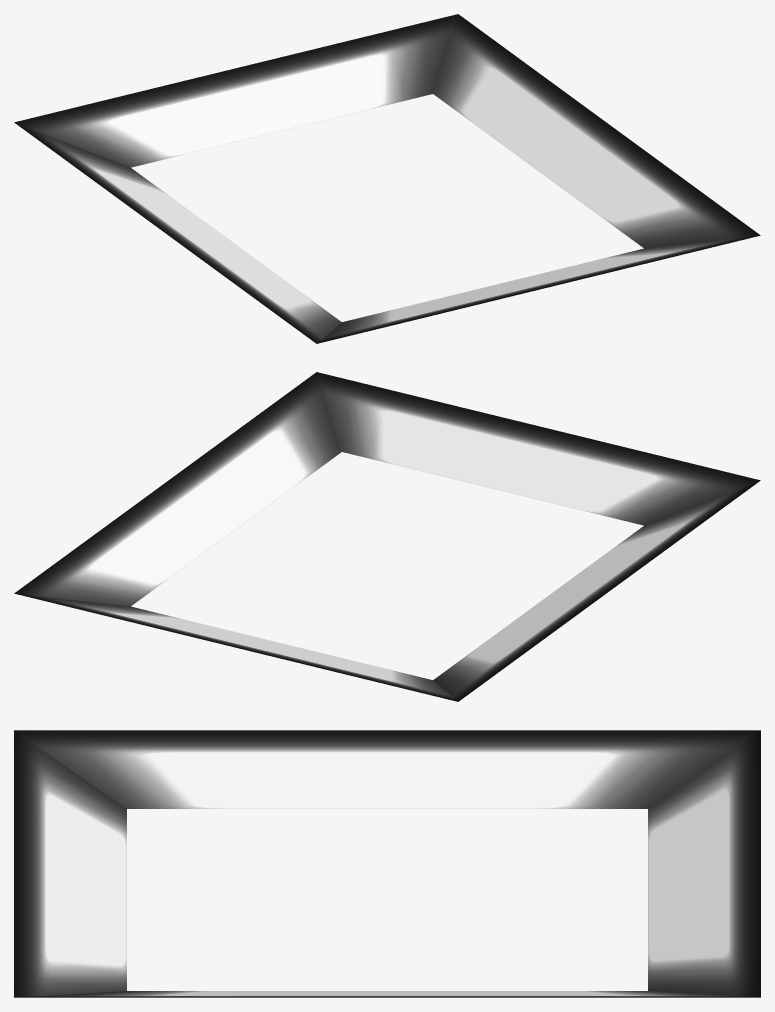
Rendered from chengshiditu_diannao02.FBX.
3 views of the same model, one above another, from view 1: azimuth 30°, elevation 25°; view 2: azimuth 150°, elevation 25°; view 3: azimuth 270°, elevation 25° (orthographic). The views are drawn at different scales.
Parts seen in each view (by area): view 1: Cylinder001; view 2: Cylinder001; view 3: Cylinder001.
Part boxes in pixels (bbox=[...]): Cylinder001: bbox=[14, 14, 760, 343]; Cylinder001: bbox=[14, 372, 760, 701]; Cylinder001: bbox=[14, 730, 760, 997].
Size of the model in its own units: 53.54 by 3.35 by 63.18.
1 material, 1 textured.
